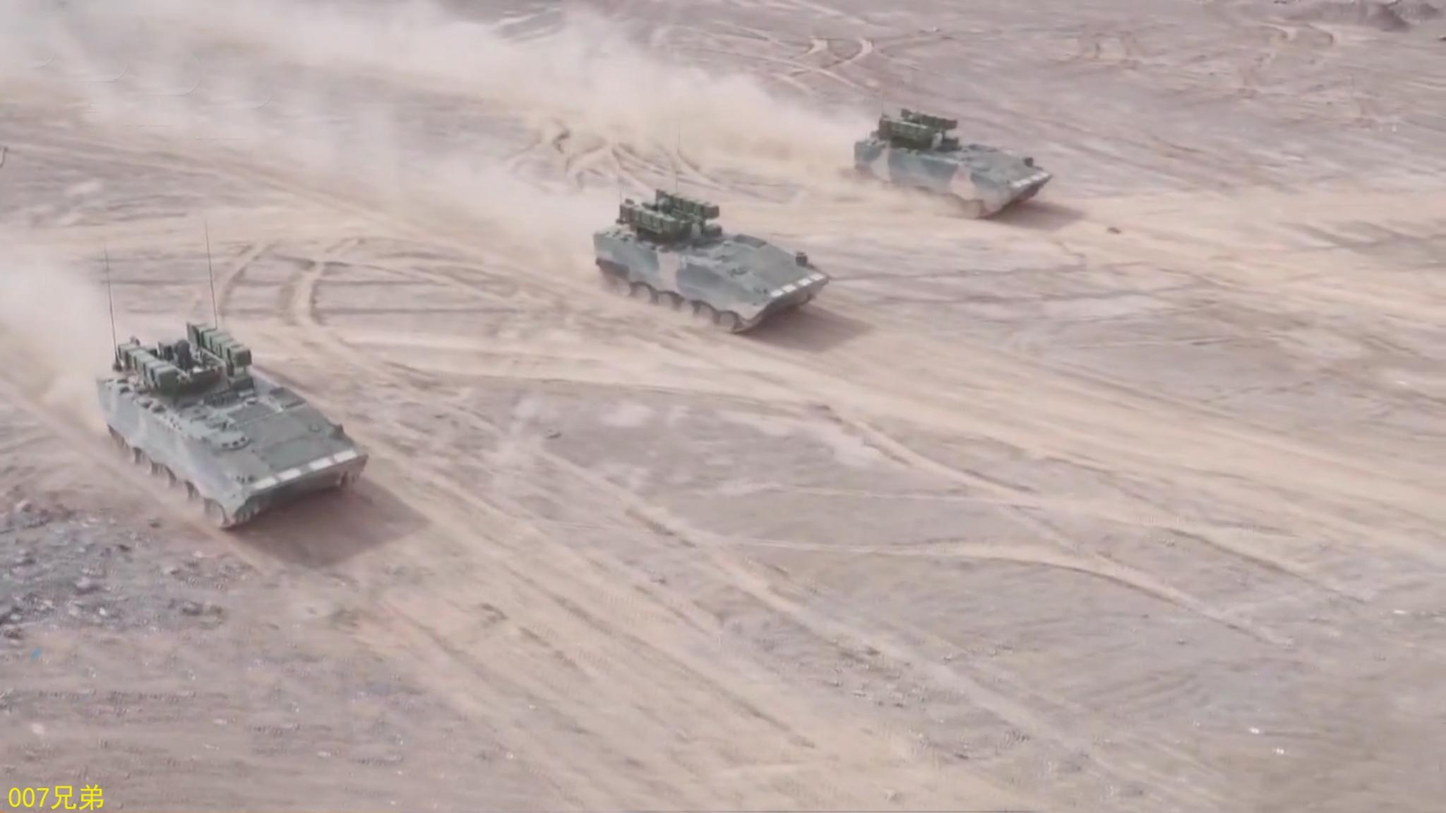tank: (88, 325, 368, 537), (591, 191, 832, 333), (848, 101, 1054, 222)
